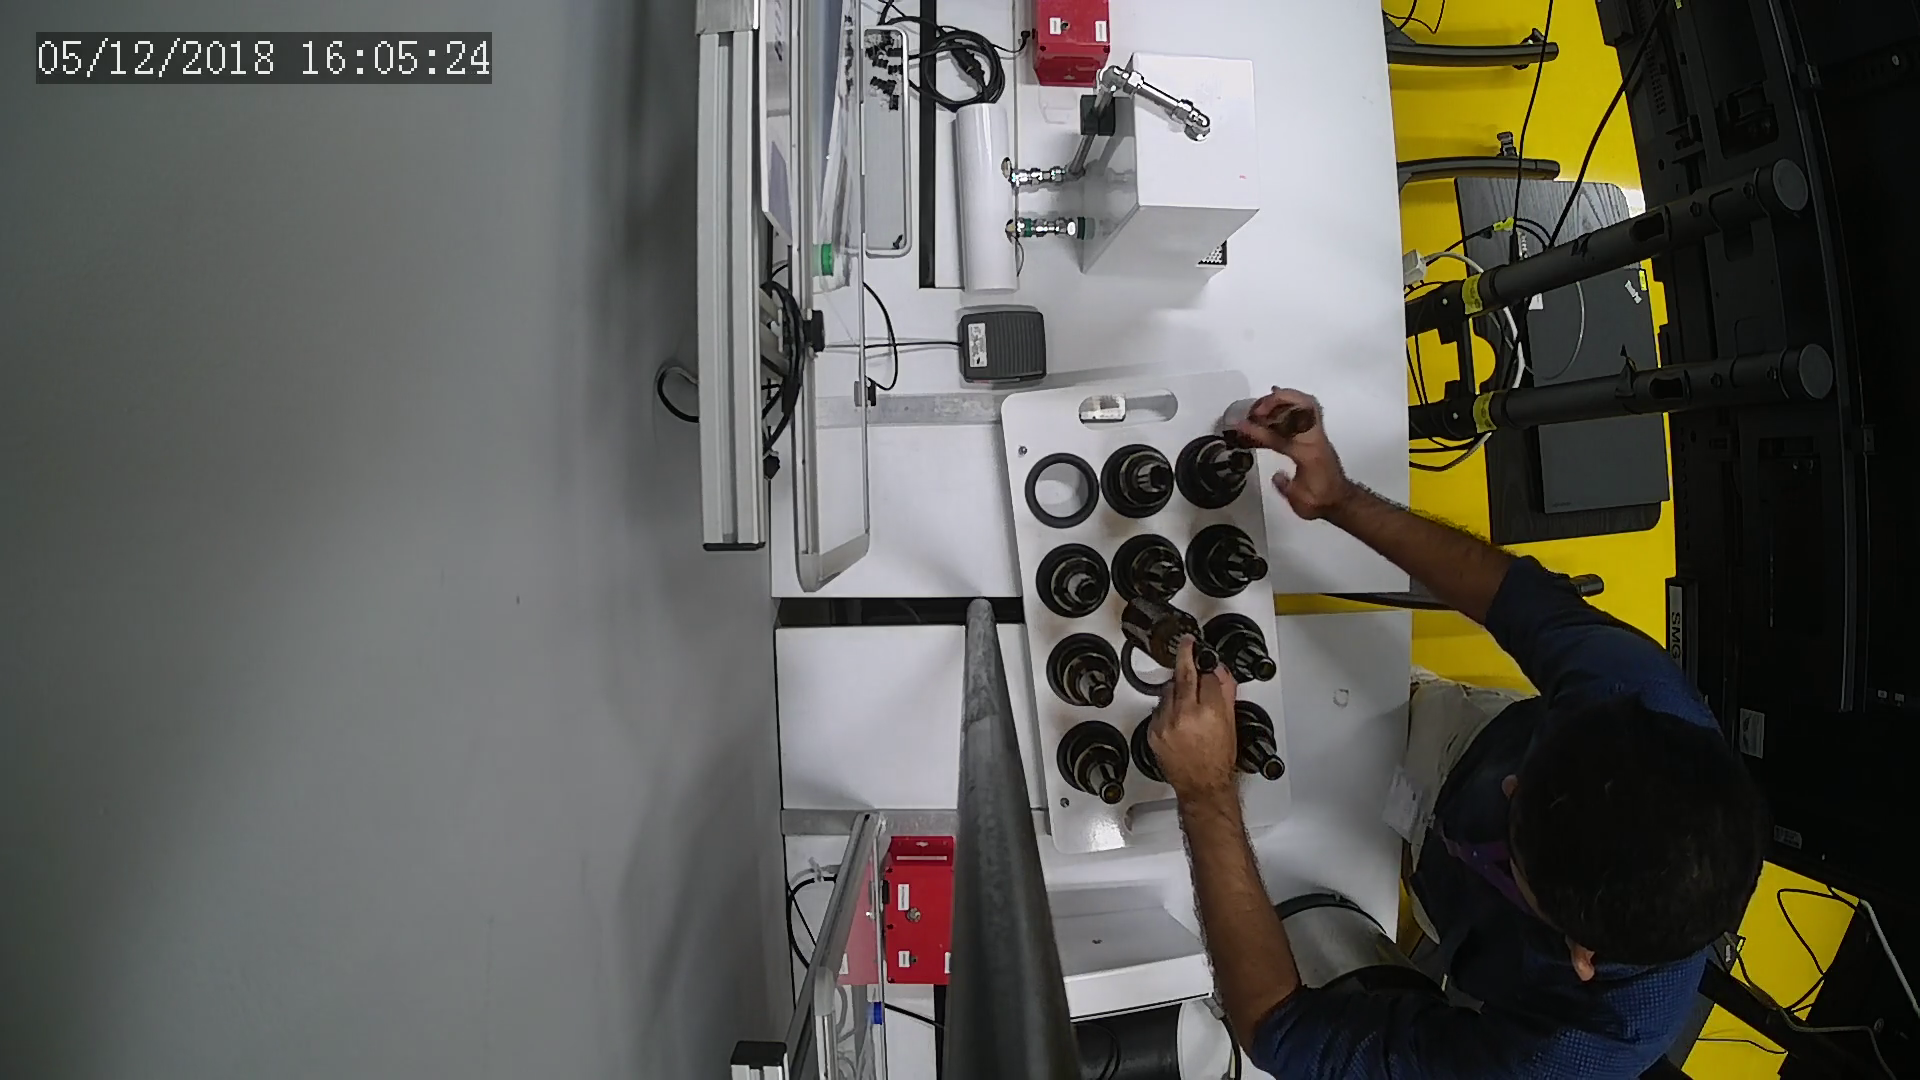filled_bottle: (1036, 630, 1126, 711), (1172, 430, 1255, 516), (1098, 440, 1179, 524), (1183, 524, 1270, 599), (1062, 720, 1129, 815), (1204, 609, 1278, 694), (1035, 541, 1110, 622), (1112, 534, 1187, 613), (1232, 702, 1283, 786)
trolley: (997, 371, 1299, 853)
